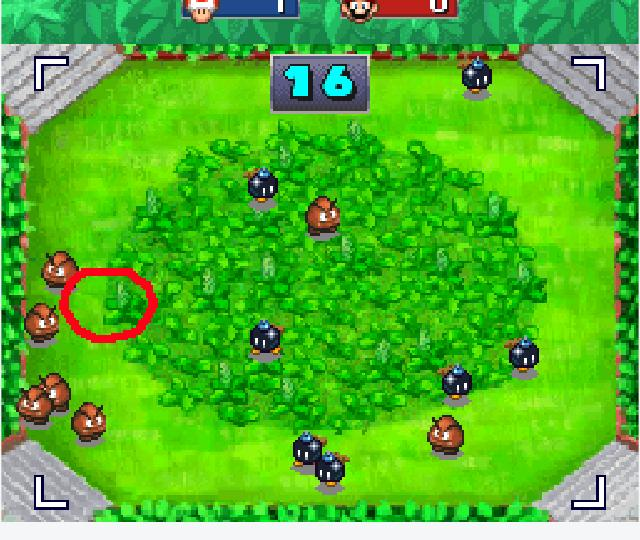bomb: (435, 358, 478, 402), (455, 53, 496, 99), (239, 165, 282, 205), (502, 335, 544, 375), (312, 448, 352, 490), (247, 318, 288, 358), (287, 429, 325, 468)
goomba: (19, 299, 64, 348), (422, 412, 468, 458), (28, 371, 76, 415), (37, 248, 84, 292), (303, 194, 344, 238), (14, 384, 54, 428), (71, 402, 110, 445)
